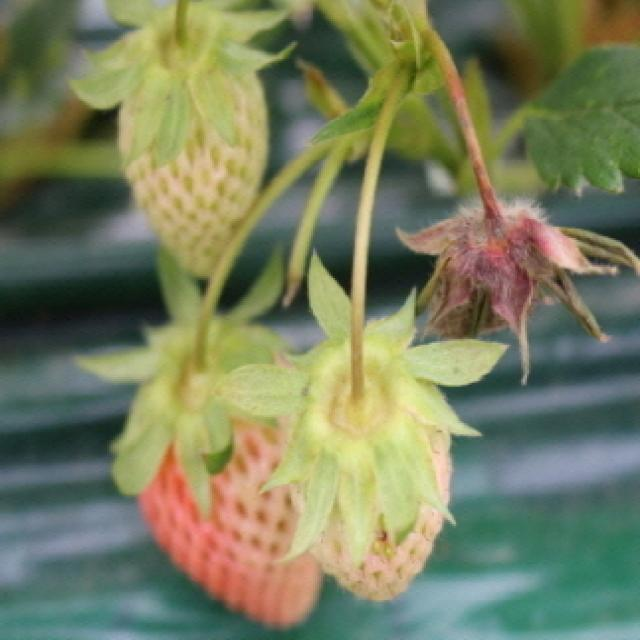Gray Mold: (396, 167, 640, 388)
